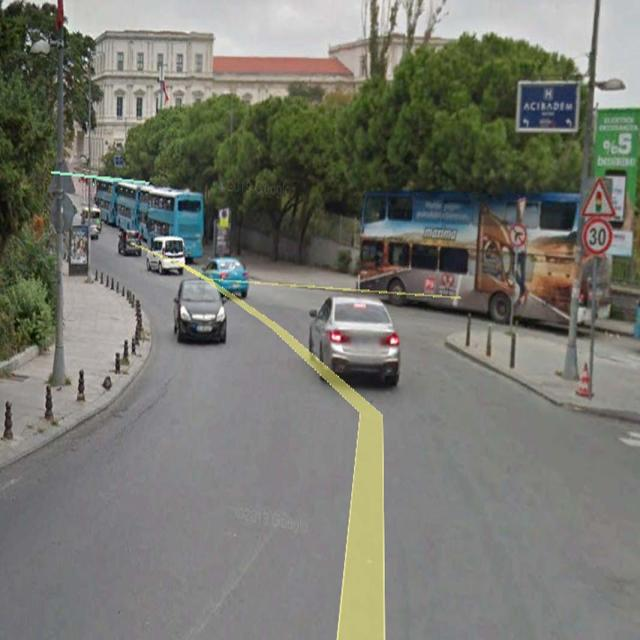30: (582, 219, 613, 256)
sagadonulmez: (508, 223, 526, 248)
